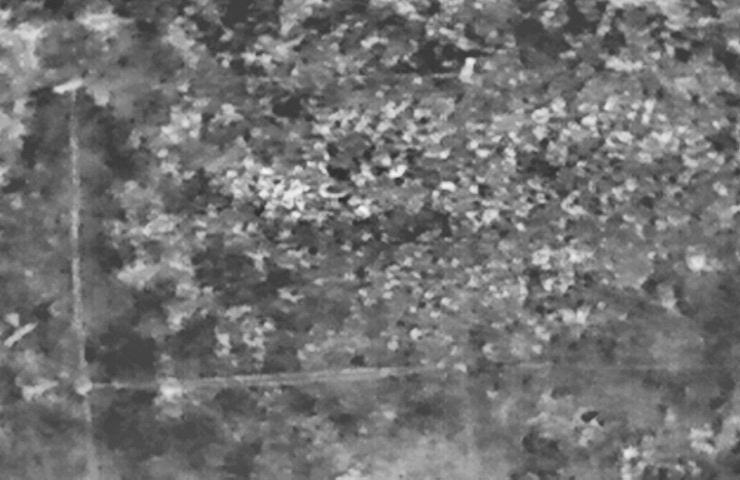landmines: (262, 172, 312, 211)
